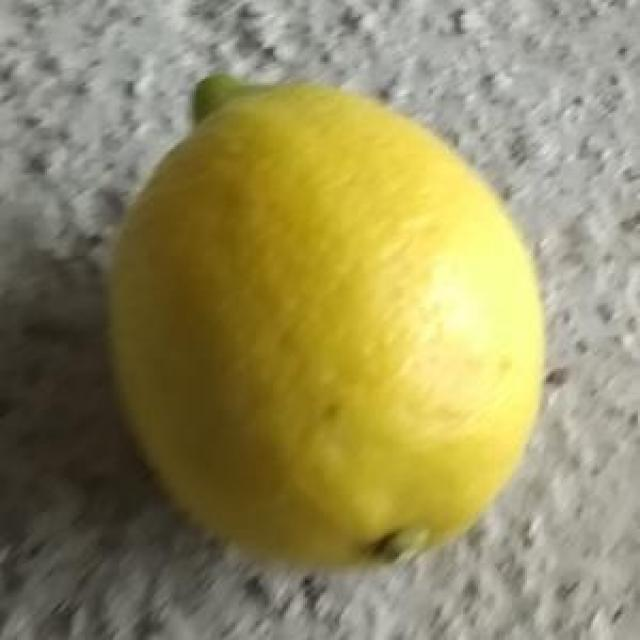lemon: (108, 75, 544, 575)
